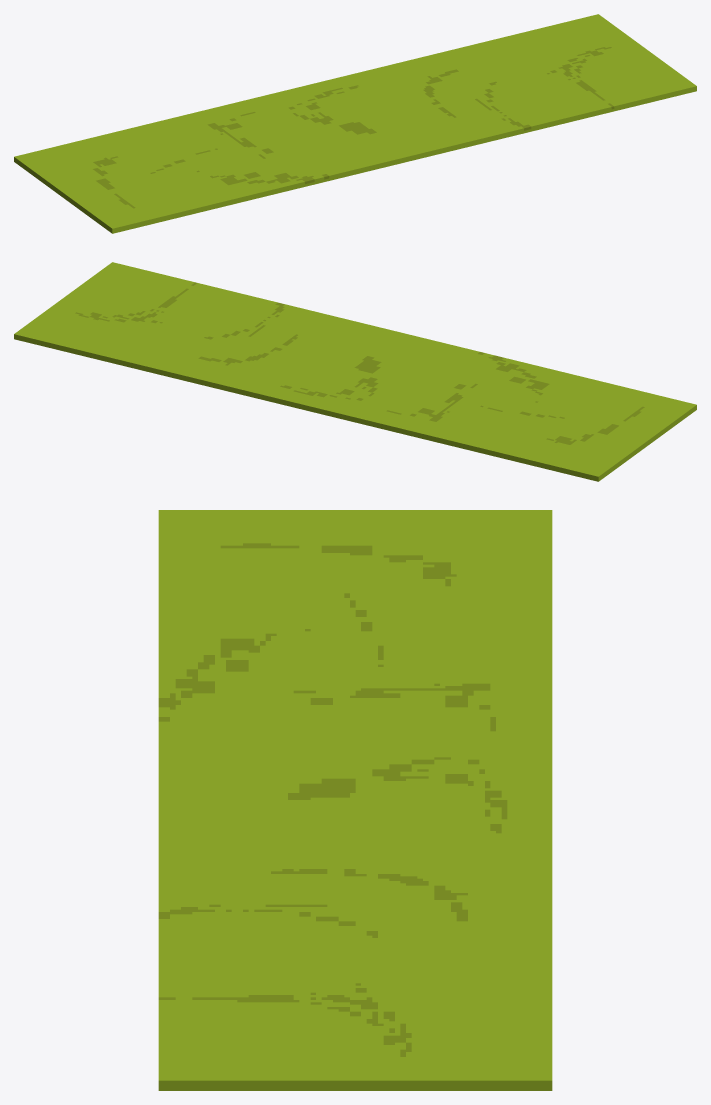
The model's file is Map-4.obj.
3 views of the same model, one above another, from view 1: azimuth 30°, elevation 25°; view 2: azimuth 150°, elevation 25°; view 3: azimuth 270°, elevation 25° (orthographic). The views are drawn at different scales.
Bounding box in the file's own units: 24 × 0.2 × 7.
Materials: 1 (1 with a texture image).
